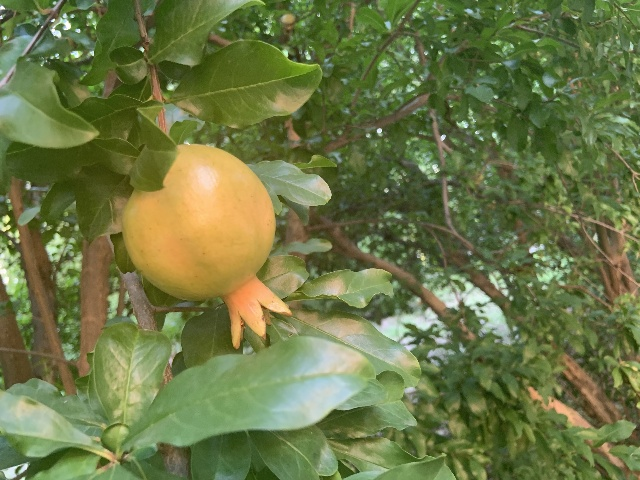mid-growth: (121, 144, 293, 350)
